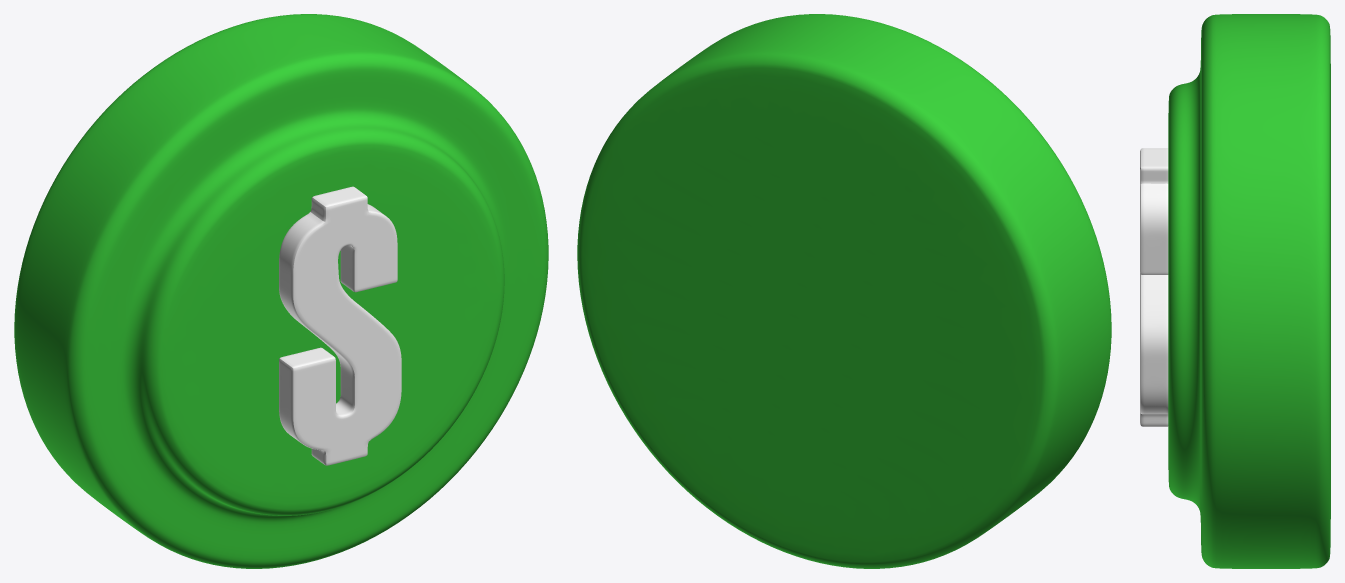
The model's file is coin.glb.
3 renders of one model, left to right at view 1: azimuth 30°, elevation 25°; view 2: azimuth 150°, elevation 25°; view 3: azimuth 270°, elevation 25°, orthographic.
Parts seen in each view (by area): view 1: Coin Base, Dollar Symbol; view 2: Coin Base; view 3: Coin Base, Dollar Symbol.
Boxes of the visible parts, x1,y1,x2,y2 form: Coin Base: [14, 14, 548, 568]; Dollar Symbol: [279, 186, 401, 465]; Coin Base: [577, 14, 1111, 568]; Coin Base: [1168, 14, 1330, 568]; Dollar Symbol: [1140, 148, 1168, 426].
Bounding box in the file's own units: 1.99 × 1.99 × 0.6838.
